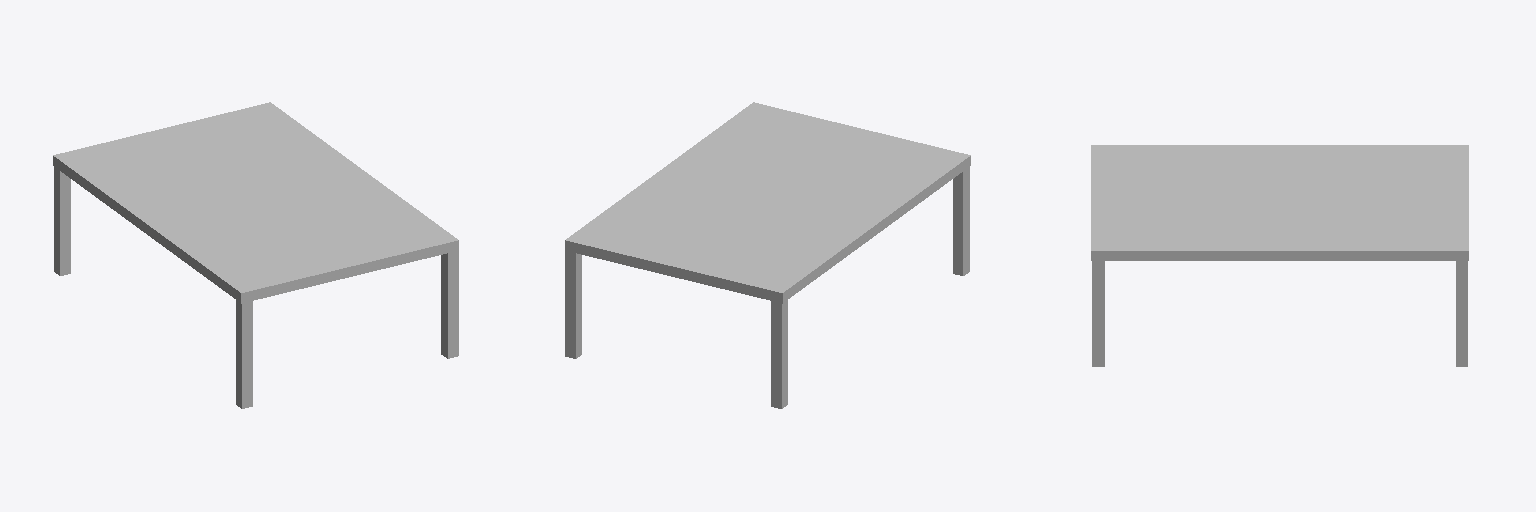
The model's file is table.obj.
3 views of the same model, side by side, from view 1: azimuth 30°, elevation 25°; view 2: azimuth 150°, elevation 25°; view 3: azimuth 270°, elevation 25° (orthographic).
Parts seen in each view (by area): view 1: Cube, Cube.001, Cube.004, Cube.003; view 2: Cube, Cube.003, Cube.002, Cube.004; view 3: Cube, Cube.001, Cube.002.
Part boxes in pixels (bbox=[...]): Cube: bbox=[53, 102, 458, 303]; Cube.001: bbox=[441, 251, 458, 358]; Cube.004: bbox=[236, 300, 252, 408]; Cube.003: bbox=[54, 167, 70, 275]; Cube: bbox=[565, 102, 970, 303]; Cube.003: bbox=[771, 300, 787, 408]; Cube.002: bbox=[565, 251, 581, 358]; Cube.004: bbox=[953, 167, 969, 275]; Cube: bbox=[1091, 145, 1468, 260]; Cube.001: bbox=[1092, 261, 1104, 366]; Cube.002: bbox=[1456, 261, 1467, 366].
Bounding box in the file's own units: 4 × 2.04 × 6.